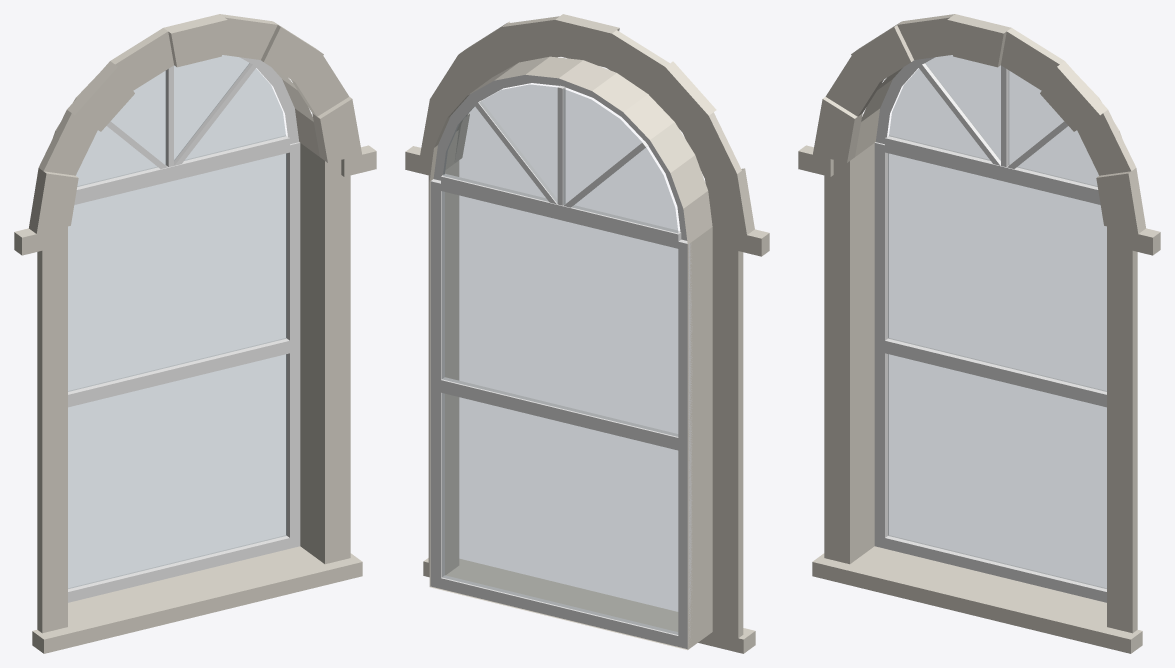
File: win_arch_stone_1.5x3.0.glb
3 views of the same model, side by side, from view 1: azimuth 30°, elevation 25°; view 2: azimuth 150°, elevation 25°; view 3: azimuth 330°, elevation 25° (orthographic).
Parts seen in each view (by area): view 1: win_arch; view 2: win_arch; view 3: win_arch.
Part boxes in pixels (x1,y1,x2,y2): win_arch: (14, 14, 376, 653); win_arch: (405, 14, 769, 653); win_arch: (798, 14, 1160, 653).
Bounding box in the file's own units: 2.07 × 3.27 × 0.37.
